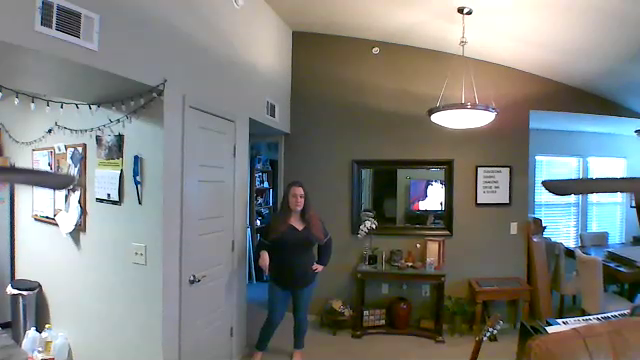down: (255, 245, 276, 281)
